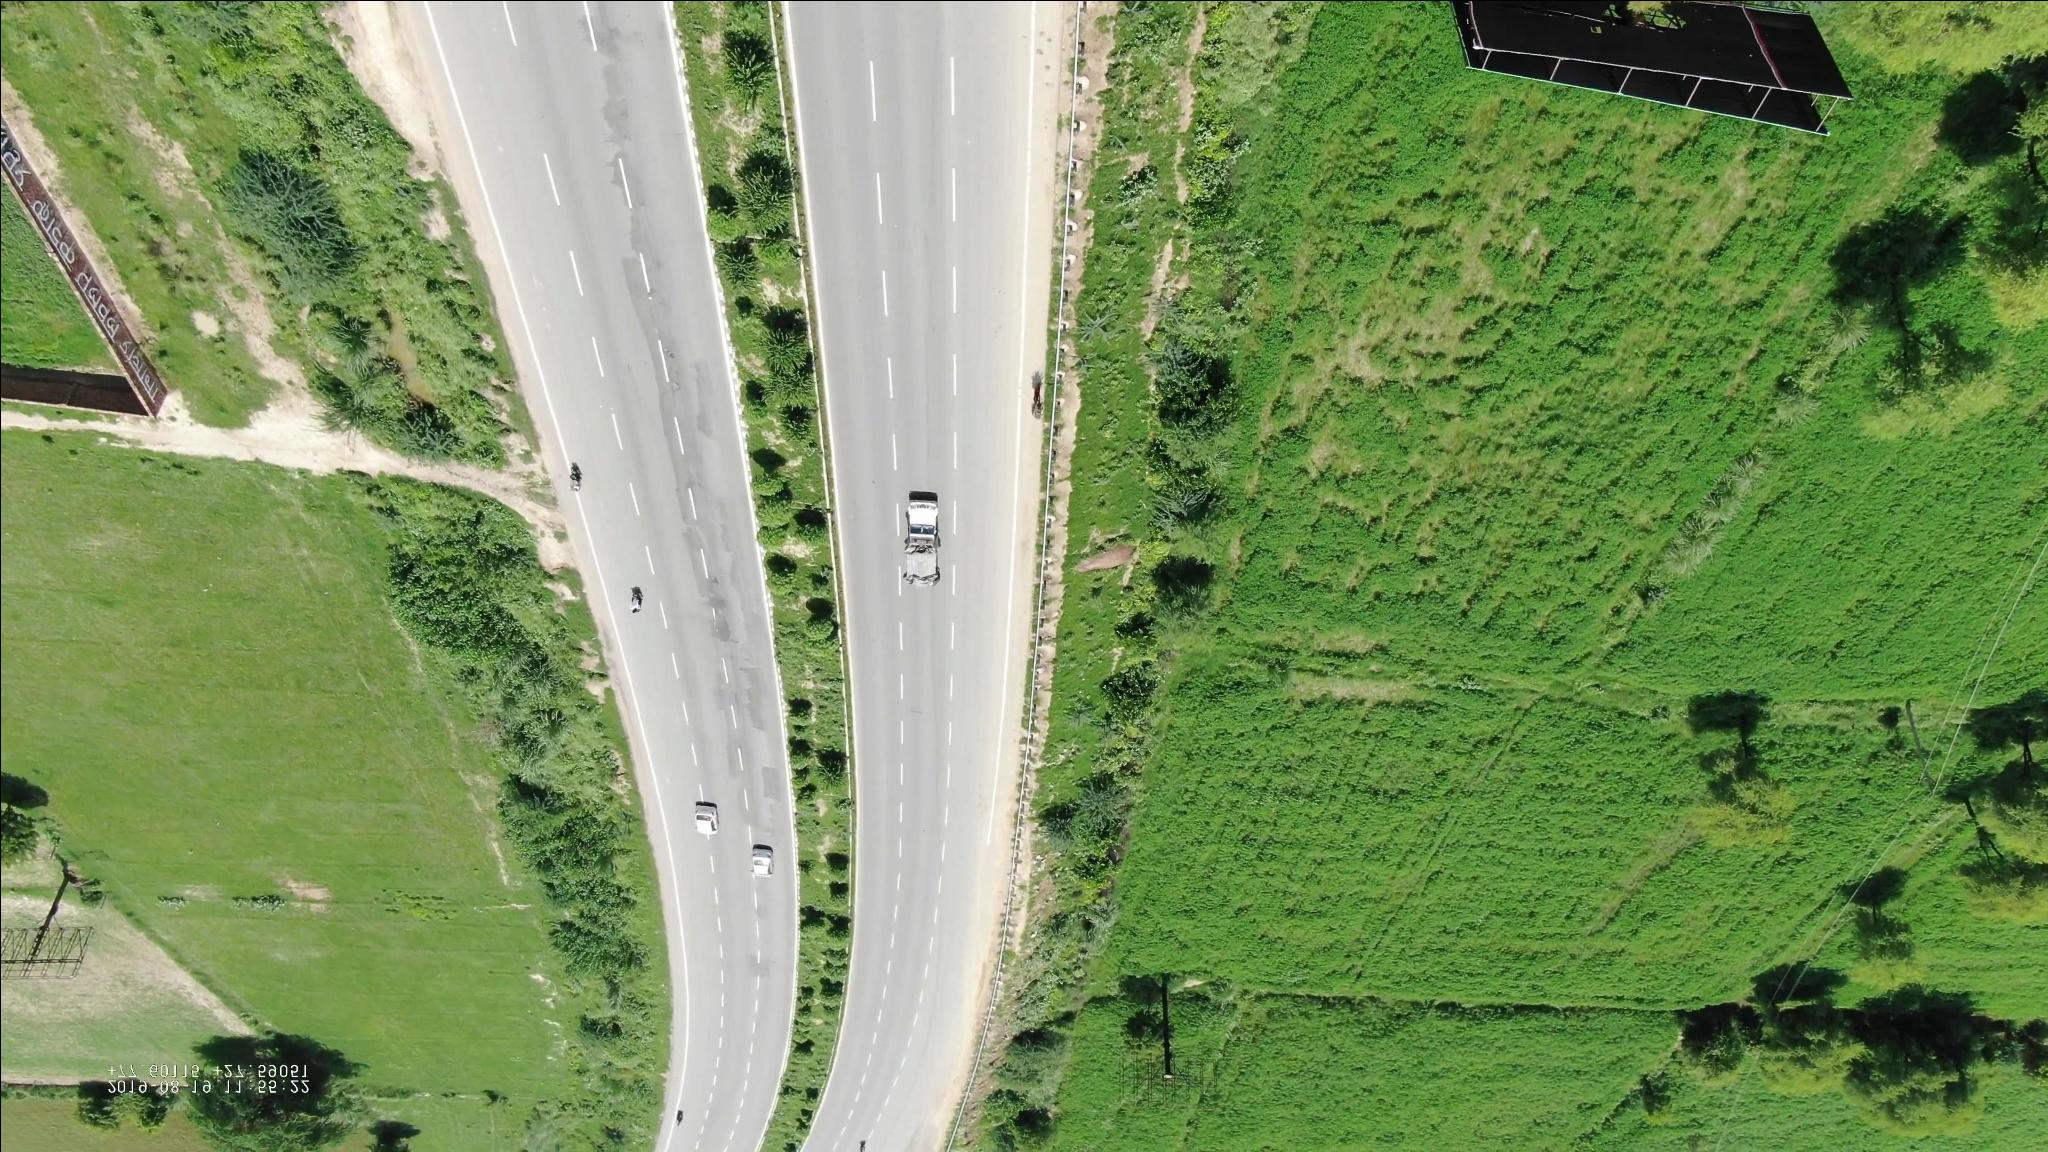Potholes: (648, 338, 695, 401)
